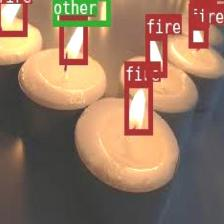fire: (124, 81, 151, 134), (59, 16, 86, 63), (0, 0, 26, 35), (145, 34, 166, 76), (189, 0, 208, 26), (187, 23, 207, 47)
